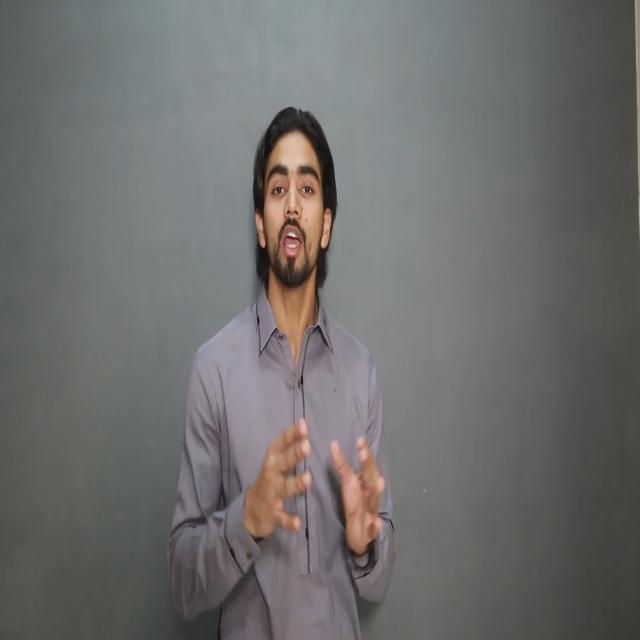dress: (165, 274, 400, 640)
